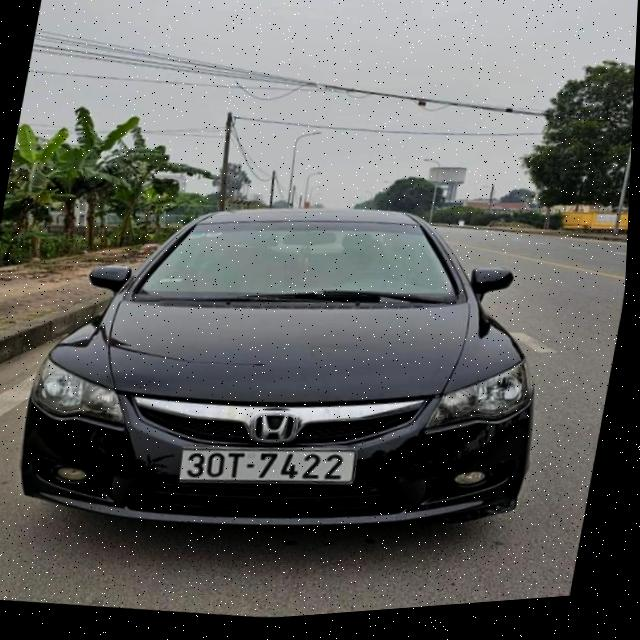car: (10, 151, 574, 594)
plate: (176, 420, 361, 509)
